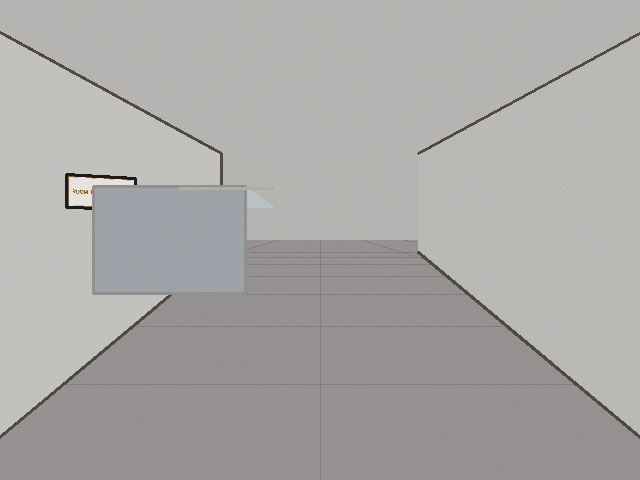directional_sign: (66, 174, 135, 209)
hospital_bed: (93, 186, 273, 293)
